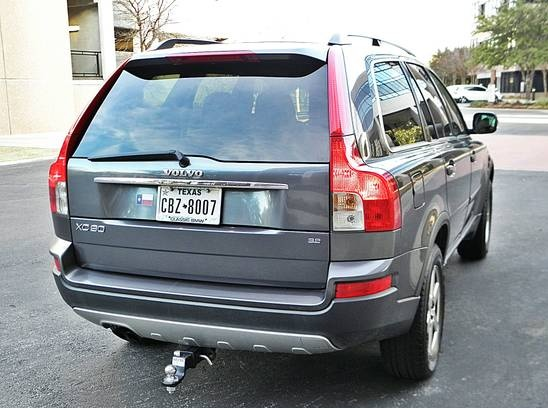volvo: (27, 18, 529, 399)
